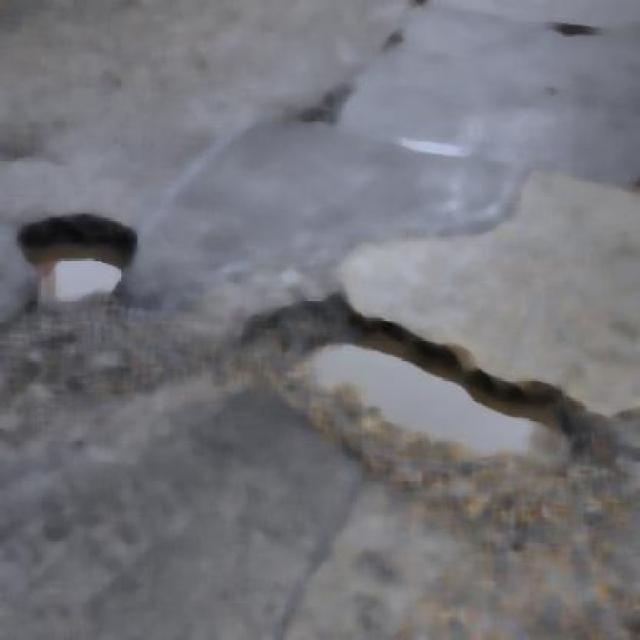Pothole: (305, 310, 570, 465), (22, 217, 123, 306)
